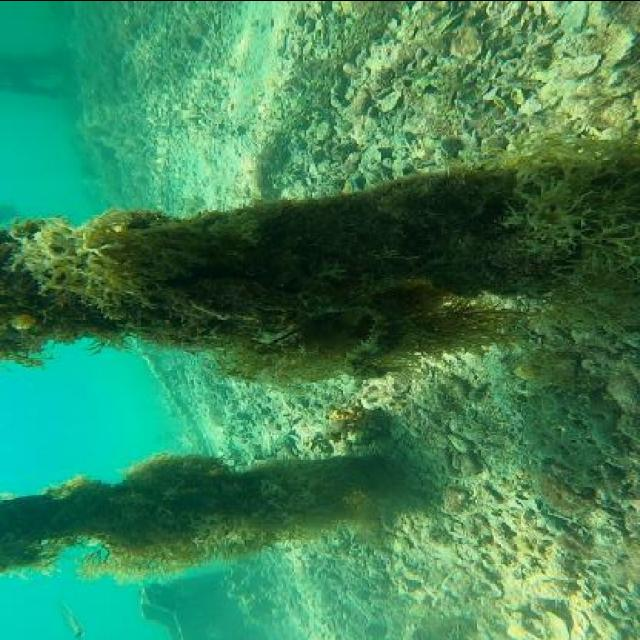Guttu: (340, 348, 406, 396)
